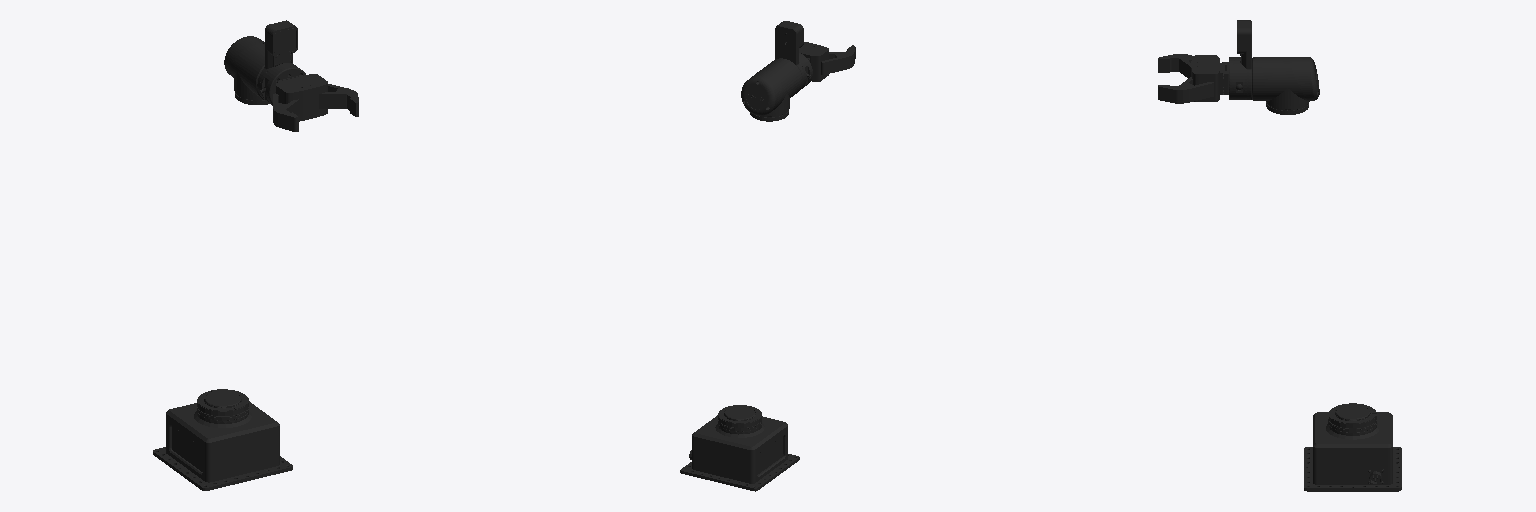
The robot description file, URDF, robot "open_manipulator_y":
<?xml version="1.0" ?>
<!-- =================================================================================== -->
<!-- |    This document was autogenerated by xacro from open_manipulator_y_test.urdf.xacro | -->
<!-- |    EDITING THIS FILE BY HAND IS NOT RECOMMENDED                                 | -->
<!-- =================================================================================== -->
<!-- Open Manipulator Y -->
<robot name="open_manipulator_y">
  <link name="link0">
    <visual>
      <origin rpy="0 0 0" xyz="0 0 0"/>
      <geometry>
        <mesh filename="package://open_manipulator_description/meshes/om_y//base_unit.stl" scale="0.001 0.001 0.001"/>
      </geometry>
      <material name="grey">
        <color rgba="0.2 0.2 0.2 1"/>
      </material>
    </visual>
    <collision>
      <origin rpy="0 0 0" xyz="0 0 0"/>
      <geometry>
        <mesh filename="package://open_manipulator_description/meshes/om_y//base_unit.stl" scale="0.001 0.001 0.001"/>
      </geometry>
    </collision>
    <inertial>
      <origin xyz="-4.021582400e-03 1.308399100e-03 5.507347000e-02"/>
      <mass value="1.528748600e+00"/>
      <inertia ixx="4.642820300e-03" ixy="4.440553200e-05" ixz="-1.504929600e-04" iyy="4.973695500e-03" iyz="2.075604700e-05" izz="6.407832100e-03"/>
    </inertial>
  </link>
  <joint name="joint1" type="revolute">
    <parent link="link0"/>
    <child link="link1"/>
    <origin rpy="0 0 0" xyz="0.0 0.0 0.1715"/>
    <axis xyz="0 0 1"/>
    <limit effort="1000" lower="-6.283185307179586" upper="6.283185307179586" velocity="4.8"/>
    <dynamics damping="0.1"/>
  </joint>
  <link name="link1">
    <visual>
      <origin rpy="0 0 0" xyz="0 0 0"/>
      <geometry>
        <mesh filename="package://open_manipulator_description/meshes/om_y//link1.stl" scale="0.001 0.001 0.001"/>
      </geometry>
      <material name="grey">
        <color rgba="0.2 0.2 0.2 1"/>
      </material>
    </visual>
    <collision>
      <origin rpy="0 0 0" xyz="0 0 0"/>
      <geometry>
        <mesh filename="package://open_manipulator_description/meshes/om_y//link1.stl" scale="0.001 0.001 0.001"/>
      </geometry>
    </collision>
    <inertial>
      <origin xyz="-1.106361500e-04 -5.471127000e-03 -1.589773300e-02"/>
      <mass value="2.064883200e+00"/>
      <inertia ixx="3.033219000e-03" ixy="5.179283800e-06" ixz="3.335796100e-06" iyy="2.727672400e-03" iyz="1.793495300e-04" izz="2.282657600e-03"/>
    </inertial>
  </link>
  <joint name="joint2" type="revolute">
    <parent link="link1"/>
    <child link="link2"/>
    <origin rpy="0 0 0" xyz="0 -0.1215 0.0"/>
    <axis xyz="0 1 0"/>
    <limit effort="1000" lower="-6.283185307179586" upper="6.283185307179586" velocity="4.8"/>
    <dynamics damping="0.1"/>
  </joint>
  <link name="link2">
    <visual>
      <origin rpy="0 0 0" xyz="0 0 0"/>
      <geometry>
        <mesh filename="package://open_manipulator_description/meshes/om_y//link2.stl" scale="0.001 0.001 0.001"/>
      </geometry>
      <material name="grey">
        <color rgba="0.2 0.2 0.2 1"/>
      </material>
    </visual>
    <collision>
      <origin rpy="0 0 0" xyz="0 0 0"/>
      <geometry>
        <mesh filename="package://open_manipulator_description/meshes/om_y//link2.stl" scale="0.001 0.001 0.001"/>
      </geometry>
    </collision>
    <inertial>
      <origin xyz="1.140537900e-05 1.618424400e-02 1.036063400e-01"/>
      <mass value="3.679539500e+00"/>
      <inertia ixx="5.173191800e-02" ixy="2.395881900e-06" ixz="5.789396000e-05" iyy="5.035340100e-02" iyz="-4.382571600e-04" izz="4.501436000e-03"/>
    </inertial>
  </link>
  <joint name="joint3" type="revolute">
    <parent link="link2"/>
    <child link="link3"/>
    <origin rpy="0 0 0" xyz="0 0 0.247"/>
    <axis xyz="0 1 0"/>
    <limit effort="1000" lower="-6.283185307179586" upper="6.283185307179586" velocity="4.8"/>
    <dynamics damping="0.1"/>
  </joint>
  <link name="link3">
    <visual>
      <origin rpy="0 0 0" xyz="0 0 0"/>
      <geometry>
        <mesh filename="package://open_manipulator_description/meshes/om_y//link3.stl" scale="0.001 0.001 0.001"/>
      </geometry>
      <material name="grey">
        <color rgba="0.2 0.2 0.2 1"/>
      </material>
    </visual>
    <collision>
      <origin rpy="0 0 0" xyz="0 0 0"/>
      <geometry>
        <mesh filename="package://open_manipulator_description/meshes/om_y//link3.stl" scale="0.001 0.001 0.001"/>
      </geometry>
    </collision>
    <inertial>
      <origin xyz="7.814868900e-05 1.071848100e-01 1.411726700e-01"/>
      <mass value="2.386591600e+00"/>
      <inertia ixx="2.269439900e-02" ixy="-9.414242800e-07" ixz="-1.855175700e-05" iyy="2.192008700e-02" iyz="1.917938700e-04" izz="2.776155900e-03"/>
    </inertial>
  </link>
  <joint name="joint4" type="revolute">
    <parent link="link3"/>
    <child link="link4"/>
    <origin rpy="0 0 0" xyz="0 0.1215 0.2195"/>
    <axis xyz="0 1 0"/>
    <limit effort="1000" lower="-6.283185307179586" upper="6.283185307179586" velocity="4.8"/>
    <dynamics damping="0.1"/>
  </joint>
  <link name="link4">
    <visual>
      <origin rpy="0 0 0" xyz="0 0 0"/>
      <geometry>
        <mesh filename="package://open_manipulator_description/meshes/om_y//link4.stl" scale="0.001 0.001 0.001"/>
      </geometry>
      <material name="grey">
        <color rgba="0.2 0.2 0.2 1"/>
      </material>
    </visual>
    <collision>
      <origin rpy="0 0 0" xyz="0 0 0"/>
      <geometry>
        <mesh filename="package://open_manipulator_description/meshes/om_y//link4.stl" scale="0.001 0.001 0.001"/>
      </geometry>
    </collision>
    <inertial>
      <origin xyz="-1.331825600e-04 -1.074666700e-01 1.909068800e-02"/>
      <mass value="1.400234700e+00"/>
      <inertia ixx="1.754567900e-03" ixy="-4.586337900e-06" ixz="-1.775914200e-06" iyy="1.565214700e-03" iyz="1.533991300e-04" izz="1.215983900e-03"/>
    </inertial>
  </link>
  <joint name="joint5" type="revolute">
    <parent link="link4"/>
    <child link="link5"/>
    <origin rpy="0 0 0" xyz="0 -0.113 0"/>
    <axis xyz="0 0 1"/>
    <limit effort="1000" lower="-6.283185307179586" upper="6.283185307179586" velocity="4.8"/>
    <dynamics damping="0.1"/>
  </joint>
  <link name="link5">
    <visual>
      <origin rpy="0 0 0" xyz="0 0 0"/>
      <geometry>
        <mesh filename="package://open_manipulator_description/meshes/om_y//link5.stl" scale="0.001 0.001 0.001"/>
      </geometry>
      <material name="grey">
        <color rgba="0.2 0.2 0.2 1"/>
      </material>
    </visual>
    <collision>
      <origin rpy="0 0 0" xyz="0 0 0"/>
      <geometry>
        <mesh filename="package://open_manipulator_description/meshes/om_y//link5.stl" scale="0.001 0.001 0.001"/>
      </geometry>
    </collision>
    <inertial>
      <origin xyz="1.331825600e-04 -1.909068800e-02 1.099666700e-01"/>
      <mass value="1.400234700e+00"/>
      <inertia ixx="1.754567900e-03" ixy="-1.775914300e-06" ixz="-4.586337600e-06" iyy="1.215983900e-03" iyz="1.533991300e-04" izz="1.565214700e-03"/>
    </inertial>
  </link>
  <joint name="joint6" type="revolute">
    <parent link="link5"/>
    <child link="link6"/>
    <origin rpy="0 0 0" xyz="0 0 0.1155"/>
    <axis xyz="0 1 0"/>
    <limit effort="1000" lower="-6.283185307179586" upper="6.283185307179586" velocity="4.8"/>
    <dynamics damping="0.1"/>
  </joint>
  <link name="link6">
    <visual>
      <origin rpy="0 0 0" xyz="0 0 0"/>
      <geometry>
        <mesh filename="package://open_manipulator_description/meshes/om_y//link6.stl" scale="0.001 0.001 0.001"/>
      </geometry>
      <material name="grey">
        <color rgba="0.2 0.2 0.2 1"/>
      </material>
    </visual>
    <collision>
      <origin rpy="0 0 0" xyz="0 0 0"/>
      <geometry>
        <mesh filename="package://open_manipulator_description/meshes/om_y//link6.stl" scale="0.001 0.001 0.001"/>
      </geometry>
    </collision>
    <inertial>
      <origin xyz="1.108014600e-05 -8.059405600e-02 9.302933700e-03"/>
      <mass value="4.001547500e-01"/>
      <inertia ixx="5.674127600e-04" ixy="2.007333900e-07" ixz="-1.234534700e-06" iyy="6.296670600e-04" iyz="-5.631880500e-05" izz="1.989051500e-04"/>
    </inertial>
  </link>
  <joint name="end_effector_flange_joint" type="fixed">
    <parent link="link6"/>
    <child link="end_effector_flange_link"/>
    <origin rpy="0 0 0" xyz="0 -0.103 0"/>
  </joint>
  <link name="end_effector_flange_link">
    <visual>
      <origin rpy="0 0 0" xyz="0 0 0"/>
      <geometry>
        <mesh filename="package://open_manipulator_description/meshes/om_y//flange.stl" scale="0.001 0.001 0.001"/>
      </geometry>
      <material name="grey">
        <color rgba="0.2 0.2 0.2 1"/>
      </material>
    </visual>
    <collision>
      <origin rpy="0 0 0" xyz="0 0 0"/>
      <geometry>
        <mesh filename="package://open_manipulator_description/meshes/om_y//flange.stl" scale="0.001 0.001 0.001"/>
      </geometry>
    </collision>
    <inertial>
      <origin xyz="0.000000000e+00 -3.190310200e-03 0.000000000e+00"/>
      <mass value="1.661875800e-02"/>
      <inertia ixx="2.907575800e-06" ixy="0.000000000e+00" ixz="0.000000000e+00" iyy="8.125431100e-06" iyz="0.000000000e+00" izz="5.492618100e-06"/>
    </inertial>
  </link>
  <joint name="gripper_fixed" type="fixed">
    <origin rpy="1.57 1.57 0" xyz="0 -0.006 0"/>
    <parent link="end_effector_flange_link"/>
    <axis xyz="0 0 0"/>
    <child link="rh_p12_rn_base"/>
  </joint>
  <!-- base -->
  <link name="rh_p12_rn_base">
    <collision>
      <origin rpy="0 0 0" xyz="0 0 0"/>
      <geometry>
        <mesh filename="package://open_manipulator_description/meshes/rh_p12_rn_a/base.stl" scale="0.001 0.001 0.001"/>
      </geometry>
    </collision>
    <visual>
      <origin rpy="0 0 0" xyz="0 0 0"/>
      <geometry>
        <mesh filename="package://open_manipulator_description/meshes/rh_p12_rn_a/base.stl" scale="0.001 0.001 0.001"/>
      </geometry>
      <material name="grey">
        <color rgba="0.2 0.2 0.2 1"/>
      </material>
    </visual>
    <inertial>
      <origin rpy="0 0 0" xyz="0.000 0.000 0.032"/>
      <mass value="0.236"/>
      <inertia ixx="0.000001" ixy="0.0" ixz="0.0" iyy="0.000001" iyz="0.0" izz="0.000001"/>
    </inertial>
  </link>
  <!-- Joint -->
  <joint name="rh_r1_joint" type="revolute">
    <parent link="rh_p12_rn_base"/>
    <child link="rh_p12_rn_r1"/>
    <origin rpy="0 0 0" xyz="0.0 0.008 0.048"/>
    <axis xyz="1 0 0"/>
    <limit effort="1000" lower="0.0" upper="1.1" velocity="6.5"/>
    <dynamics damping="0.7"/>
  </joint>
  <!-- rh_p12_rn_r1 -->
  <link name="rh_p12_rn_r1">
    <collision>
      <origin rpy="0 0 0" xyz="0 0 0"/>
      <geometry>
        <mesh filename="package://open_manipulator_description/meshes/rh_p12_rn_a/r1.stl" scale="0.001 0.001 0.001"/>
      </geometry>
    </collision>
    <visual>
      <origin rpy="0 0 0" xyz="0 0 0"/>
      <geometry>
        <mesh filename="package://open_manipulator_description/meshes/rh_p12_rn_a/r1.stl" scale="0.001 0.001 0.001"/>
      </geometry>
      <material name="grey">
        <color rgba="0.2 0.2 0.2 1"/>
      </material>
    </visual>
    <inertial>
      <origin rpy="0 0 0" xyz="0.000 0.034 0.004"/>
      <mass value="0.068"/>
      <inertia ixx="0.000001" ixy="0.0" ixz="0.0" iyy="0.000001" iyz="0.0" izz="0.000001"/>
    </inertial>
  </link>
  <!-- Right Joint 2 -->
  <joint name="rh_r2" type="revolute">
    <parent link="rh_p12_rn_r1"/>
    <child link="rh_p12_rn_r2"/>
    <origin rpy="0 0 0" xyz="0.0 0.0493634 0.0285"/>
    <axis xyz="-1 0 0"/>
    <limit effort="1000" lower="0.0" upper="1.0" velocity="6.5"/>
    <dynamics damping="0.7"/>
    <mimic joint="rh_r1_joint" multiplier="1"/>
  </joint>
  <!-- rh_p12_rn_r2 -->
  <link name="rh_p12_rn_r2">
    <collision>
      <origin rpy="0 0 0" xyz="0 0 0"/>
      <geometry>
        <mesh filename="package://open_manipulator_description/meshes/rh_p12_rn_a/r2.stl" scale="0.001 0.001 0.001"/>
      </geometry>
    </collision>
    <visual>
      <origin rpy="0 0 0" xyz="0 0 0"/>
      <geometry>
        <mesh filename="package://open_manipulator_description/meshes/rh_p12_rn_a/r2.stl" scale="0.001 0.001 0.001"/>
      </geometry>
      <material name="grey">
        <color rgba="0.2 0.2 0.2 1"/>
      </material>
    </visual>
    <inertial>
      <origin rpy="0 0 0" xyz="0.000 0.006 0.011"/>
      <mass value="0.022"/>
      <inertia ixx="0.000001" ixy="0.0" ixz="0.0" iyy="0.000001" iyz="0.0" izz="0.000001"/>
    </inertial>
  </link>
  <!-- Left Joint 1 -->
  <joint name="rh_l1" type="revolute">
    <parent link="rh_p12_rn_base"/>
    <child link="rh_p12_rn_l1"/>
    <origin rpy="0 0 0" xyz="0.0 -0.008 0.048"/>
    <axis xyz="-1 0 0"/>
    <limit effort="1000" lower="0.0" upper="1.1" velocity="6.5"/>
    <dynamics damping="0.7"/>
    <mimic joint="rh_r1_joint" multiplier="1"/>
  </joint>
  <!-- rh_p12_rn_l1 -->
  <link name="rh_p12_rn_l1">
    <collision>
      <origin rpy="0 0 0" xyz="0 0 0"/>
      <geometry>
        <mesh filename="package://open_manipulator_description/meshes/rh_p12_rn_a/l1.stl" scale="0.001 0.001 0.001"/>
      </geometry>
    </collision>
    <visual>
      <origin rpy="0 0 0" xyz="0 0 0"/>
      <geometry>
        <mesh filename="package://open_manipulator_description/meshes/rh_p12_rn_a/l1.stl" scale="0.001 0.001 0.001"/>
      </geometry>
      <material name="grey">
        <color rgba="0.2 0.2 0.2 1"/>
      </material>
    </visual>
    <inertial>
      <origin rpy="0 0 0" xyz="0.000 -0.034 0.004"/>
      <mass value="0.068"/>
      <inertia ixx="0.000001" ixy="0.0" ixz="0.0" iyy="0.000001" iyz="0.0" izz="0.000001"/>
    </inertial>
  </link>
  <!-- Left Joint 2 -->
  <joint name="rh_l2" type="revolute">
    <parent link="rh_p12_rn_l1"/>
    <child link="rh_p12_rn_l2"/>
    <origin rpy="0 0 0" xyz="0.0 -0.0493634 0.0285"/>
    <axis xyz="1 0 0"/>
    <limit effort="1000" lower="0.0" upper="1.0" velocity="6.5"/>
    <dynamics damping="0.7"/>
    <mimic joint="rh_r1_joint" multiplier="1"/>
  </joint>
  <!-- rh_p12_rn_l2 -->
  <link name="rh_p12_rn_l2">
    <collision>
      <origin rpy="0 0 0" xyz="0 0 0"/>
      <geometry>
        <mesh filename="package://open_manipulator_description/meshes/rh_p12_rn_a/l2.stl" scale="0.001 0.001 0.001"/>
      </geometry>
    </collision>
    <visual>
      <origin rpy="0 0 0" xyz="0 0 0"/>
      <geometry>
        <mesh filename="package://open_manipulator_description/meshes/rh_p12_rn_a/l2.stl" scale="0.001 0.001 0.001"/>
      </geometry>
      <material name="grey">
        <color rgba="0.2 0.2 0.2 1"/>
      </material>
    </visual>
    <inertial>
      <origin rpy="0 0 0" xyz="0.000 -0.006 0.011"/>
      <mass value="0.022"/>
      <inertia ixx="0.000001" ixy="0.0" ixz="0.0" iyy="0.000001" iyz="0.0" izz="0.000001"/>
    </inertial>
  </link>
</robot>

--- What the picture shows (computed from the rendered views, not written in the file) ---
The picture shows the robot from 3 angles, left to right: view 1: azimuth 30°, elevation 25°; view 2: azimuth 150°, elevation 25°; view 3: azimuth 270°, elevation 25°; orthographic projection.
Robot: open_manipulator_y — 13 links, 12 joints (10 revolute, 2 fixed); root link link0; default pose: every joint at zero.
Links seen in each view (by area): view 1: link0, link6, link5, rh_p12_rn_base, rh_p12_rn_r1; view 2: link0, link5, link6, rh_p12_rn_base; view 3: link0, link5, link6, rh_p12_rn_base.
Boxes of the visible links, x1,y1,x2,y2 form: link0: (153, 389, 292, 490); link6: (257, 20, 305, 105); link5: (224, 36, 268, 104); rh_p12_rn_base: (276, 74, 327, 121); rh_p12_rn_r1: (319, 84, 348, 108); link0: (680, 405, 799, 491); link5: (741, 58, 802, 121); link6: (775, 21, 812, 89); rh_p12_rn_base: (799, 42, 828, 81); link0: (1304, 403, 1401, 491); link5: (1252, 57, 1319, 114); link6: (1229, 20, 1251, 99); rh_p12_rn_base: (1191, 55, 1224, 101).
Size in the robot's own frame: 0.17 by 0.4235 by 0.8575 metres.
9 mesh visuals loaded from 13 distinct referenced files (9 binary STL); not drawn: 4 (reference not matched to a file when rendering).
